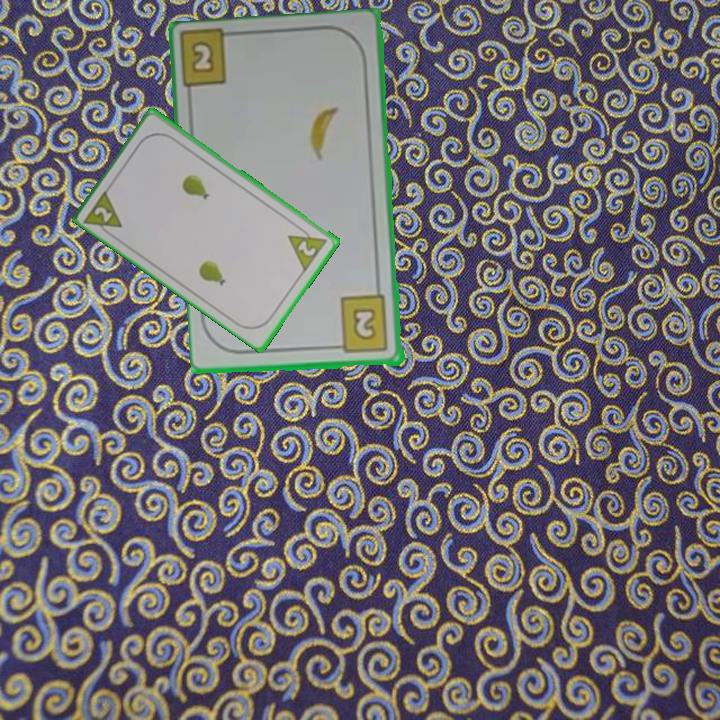2b: (330, 293, 392, 356), (187, 37, 218, 77)
2p: (284, 221, 331, 274), (81, 185, 126, 240)
